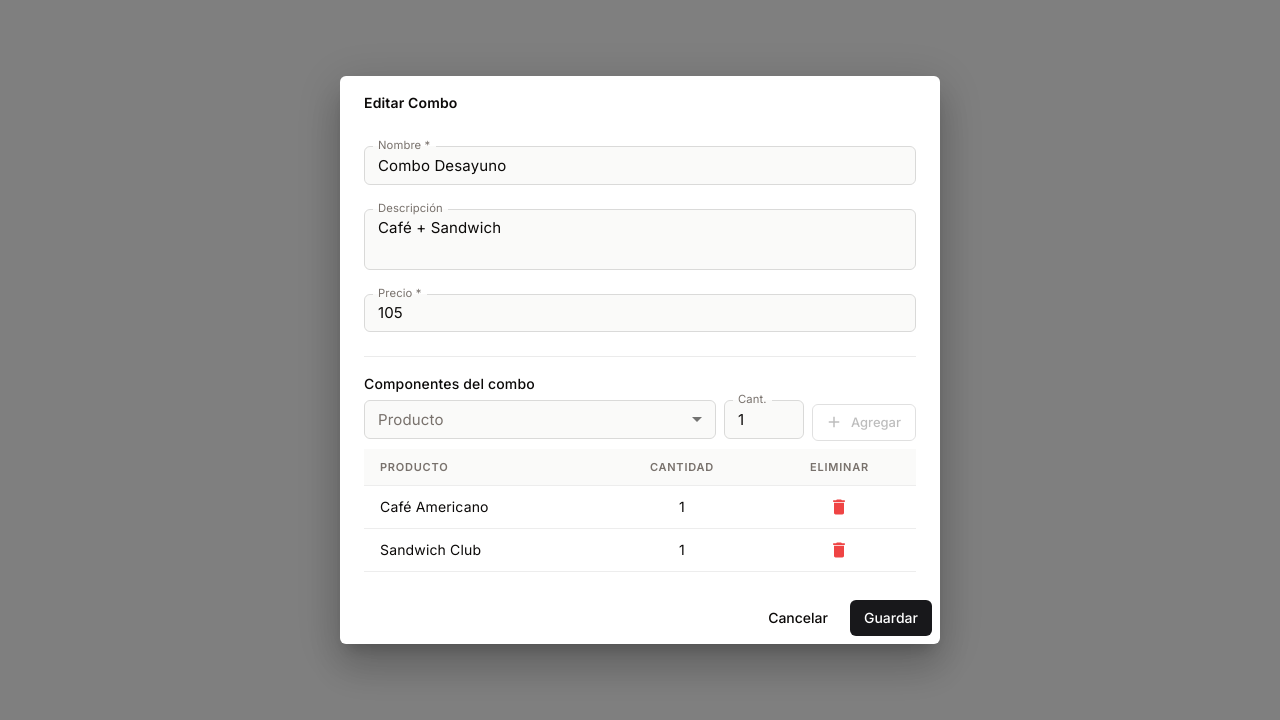
Scenario: ComboForm — edit mode › can remove an existing item
expect the text "Café Americano" is shown: met, box [364, 485, 601, 528]
Click the button named "quitar Café Americano del combo": (840, 507) [824, 492, 854, 522]
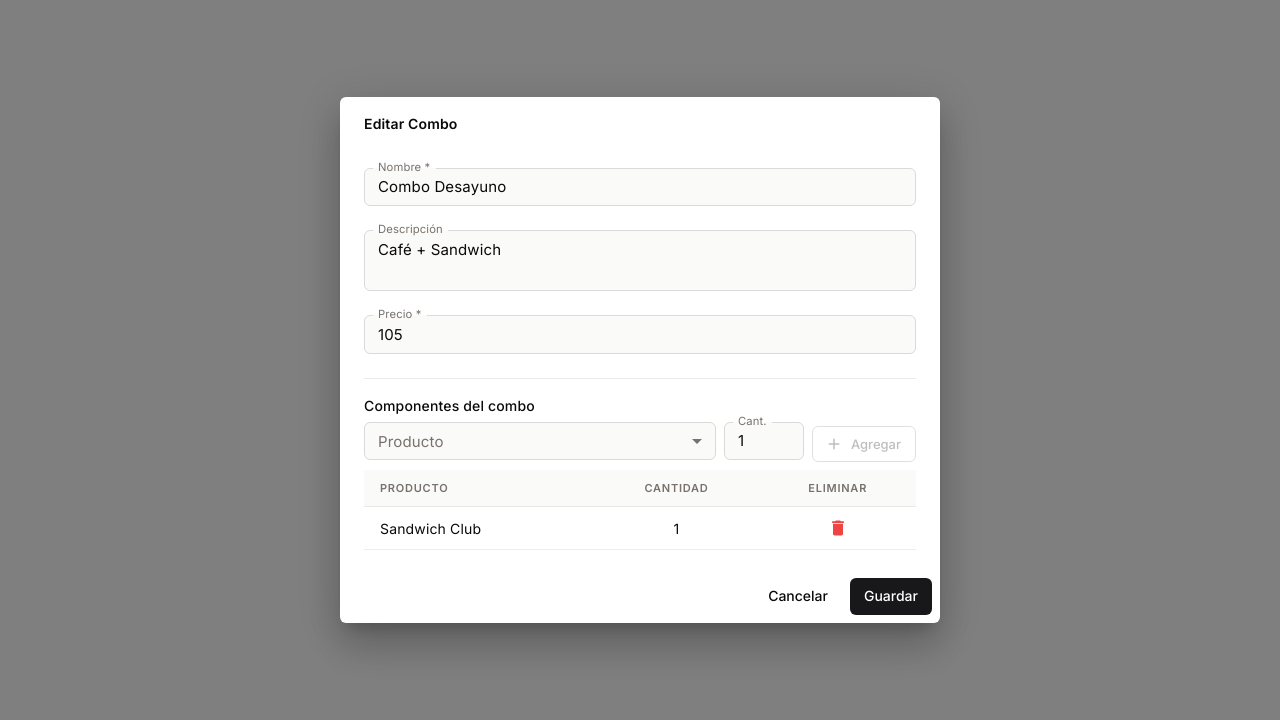
expect the text "Café Americano" is gone: met
